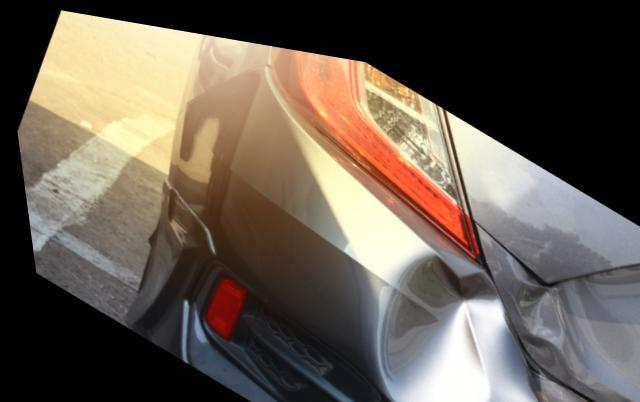dent: (371, 239, 494, 402), (504, 260, 635, 379)
